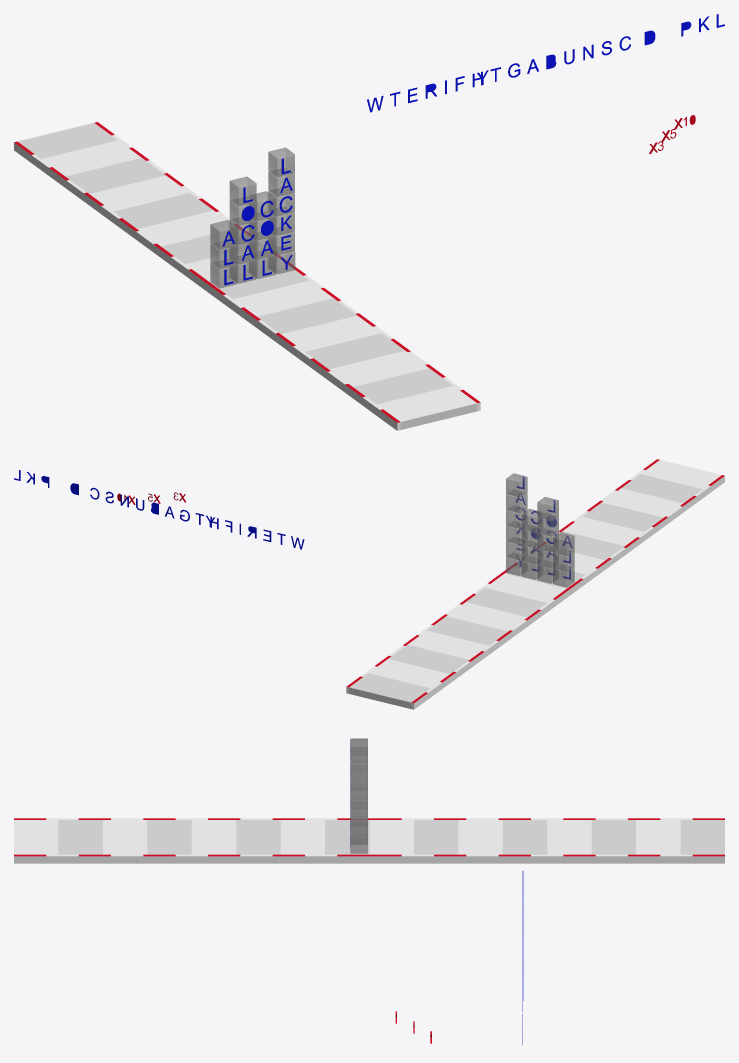
File: buzlu.FBX
3 views of the same model, one above another, from view 1: azimuth 30°, elevation 25°; view 2: azimuth 150°, elevation 25°; view 3: azimuth 270°, elevation 25° (orthographic). The views are drawn at different scales.
Visible parts, largest first — view 1: Box031, Group002, Box034, Group006, Box033, Box036, ChamferBox010, ChamferBox006; view 2: Box034, Group006, Box031, Group002, Box036, Box033, ChamferBox018, ChamferBox006, ChamferBox010, ChamferBox009, ChamferBox017, ChamferBox001 (+3 smaller); view 3: Group002, Box034, Group006, Box031, Box032, Box035, Group003, Group007.
Part boxes in pixels (box(x1,y1,x2,y2)): Box031: box(209, 263, 477, 429); Group002: box(233, 280, 476, 421); Box034: box(17, 123, 260, 263); Group006: box(42, 140, 283, 281); Box033: box(205, 283, 400, 430); Box036: box(14, 142, 205, 290); ChamferBox010: box(229, 176, 256, 206); ChamferBox006: box(210, 220, 237, 249); Box034: box(349, 588, 546, 708); Group006: box(369, 573, 566, 688); Box031: box(505, 474, 702, 588); Group002: box(529, 460, 721, 574); Box036: box(411, 589, 569, 709); Box033: box(569, 476, 724, 595); ChamferBox018: box(506, 473, 527, 497); ChamferBox006: box(553, 532, 574, 555); ChamferBox010: box(537, 497, 558, 520); ChamferBox009: box(537, 513, 558, 536); ChamferBox017: box(506, 490, 527, 513); ChamferBox001: box(553, 564, 574, 587); Group002: box(14, 820, 324, 854); Box034: box(414, 820, 724, 854); Group006: box(369, 820, 680, 854); Box031: box(58, 820, 369, 854); Box032: box(14, 854, 369, 863); Box035: box(369, 854, 724, 863); Group003: box(14, 854, 369, 856); Group007: box(369, 854, 724, 856).
Size of the model in its own units: 9589 by 1898 by 10575.
